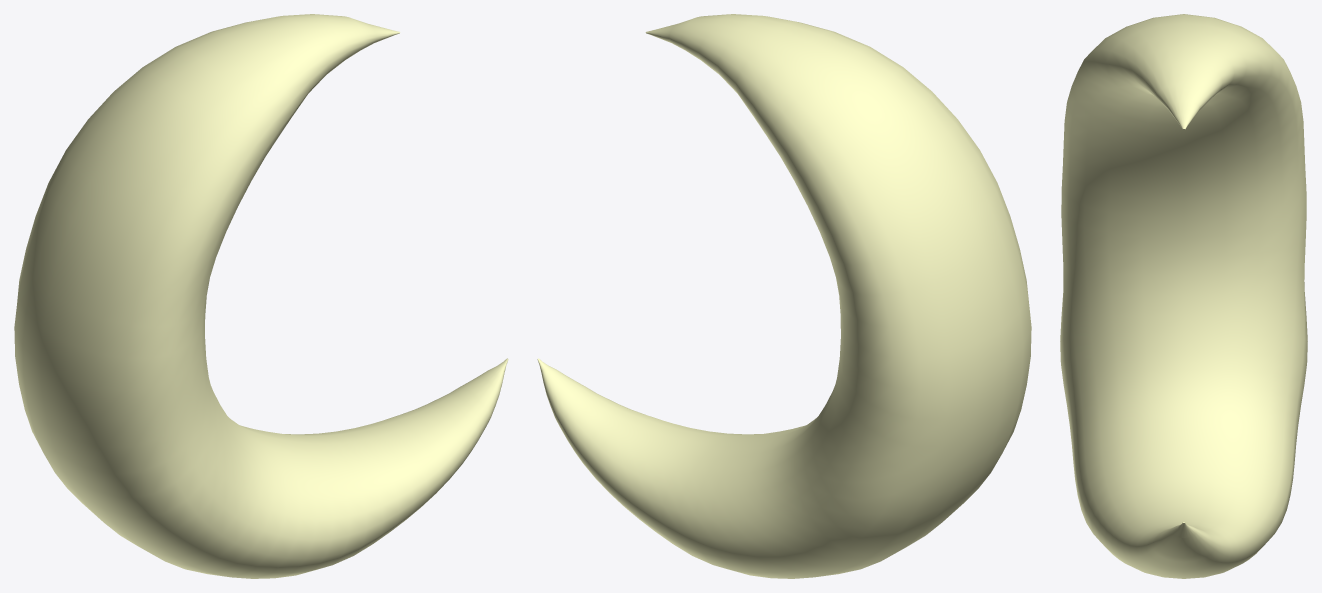
File: Moon.fbx
3 renders of one model, left to right at view 1: azimuth 30°, elevation 25°; view 2: azimuth 150°, elevation 25°; view 3: azimuth 270°, elevation 25°, orthographic. The views are drawn at different scales.
Visible parts, largest first — view 1: moon_geo; view 2: moon_geo; view 3: moon_geo.
Boxes of the visible parts, x1,y1,x2,y2 form: moon_geo: [14, 14, 508, 578]; moon_geo: [537, 14, 1031, 578]; moon_geo: [1060, 14, 1307, 578].
Size of the model in its own units: 1449 by 1568 by 686.
